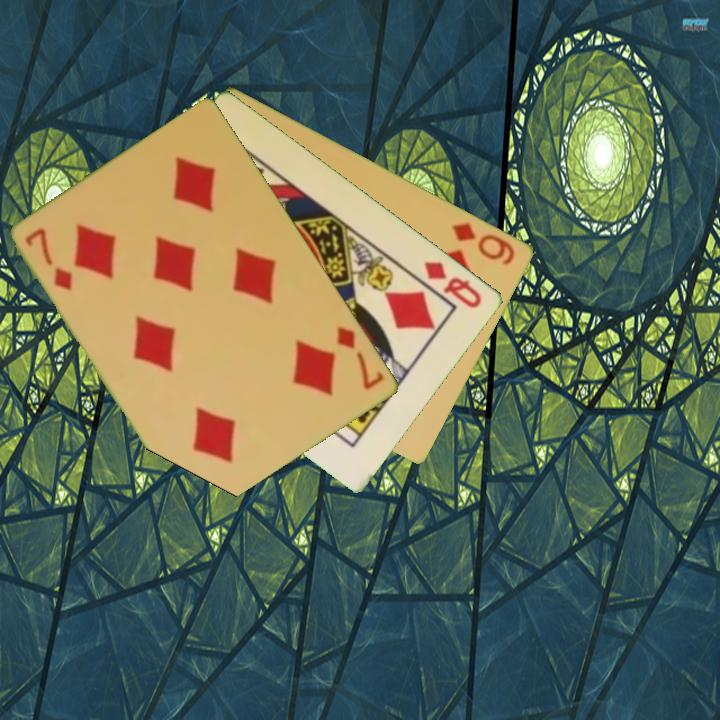6d: (448, 218, 519, 268)
7d: (333, 322, 388, 393), (22, 224, 77, 294)
Qd: (421, 257, 486, 311)
